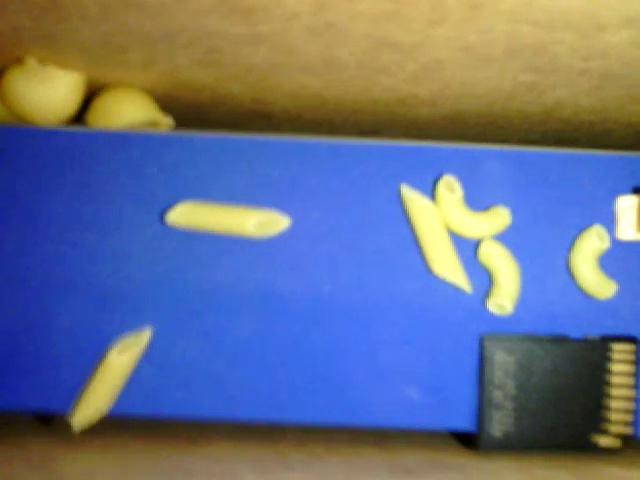elbow: (432, 170, 513, 241), (566, 220, 620, 301), (476, 236, 522, 319)
penne: (70, 323, 153, 431), (396, 181, 474, 292), (160, 199, 293, 243)
shell: (1, 59, 88, 126), (91, 80, 176, 134)
